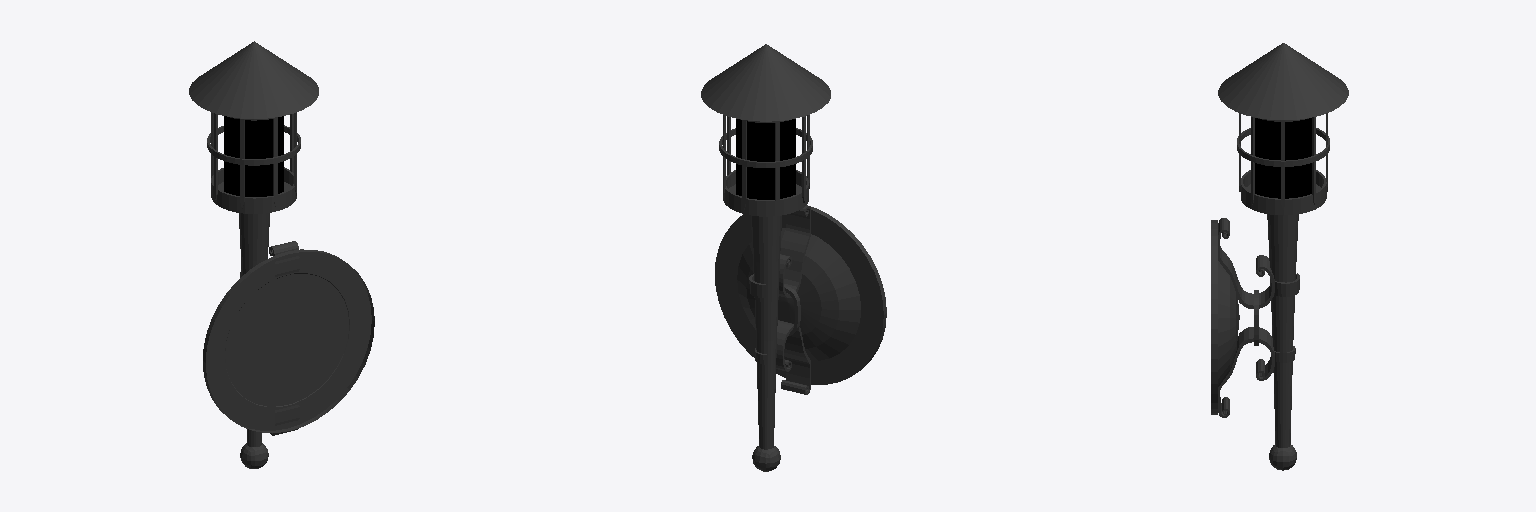
Rendered from 1(standart).obj.
The picture shows the model from 3 angles: view 1: azimuth 30°, elevation 25°; view 2: azimuth 150°, elevation 25°; view 3: azimuth 270°, elevation 25°; orthographic projection.
Parts seen in each view (by area): view 1: 6_low, Object004; view 2: 6_low, Object004; view 3: Object004, 6_low.
Boxes of the visible parts, x1=… form: 6_low: x1=203, y1=241, x2=374, y2=435; Object004: x1=189, y1=41, x2=318, y2=468; 6_low: x1=715, y1=205, x2=886, y2=394; Object004: x1=701, y1=44, x2=830, y2=471; Object004: x1=1218, y1=43, x2=1348, y2=470; 6_low: x1=1211, y1=218, x2=1299, y2=417.
Size of the model in its own units: 27.78 by 66.97 by 19.51.